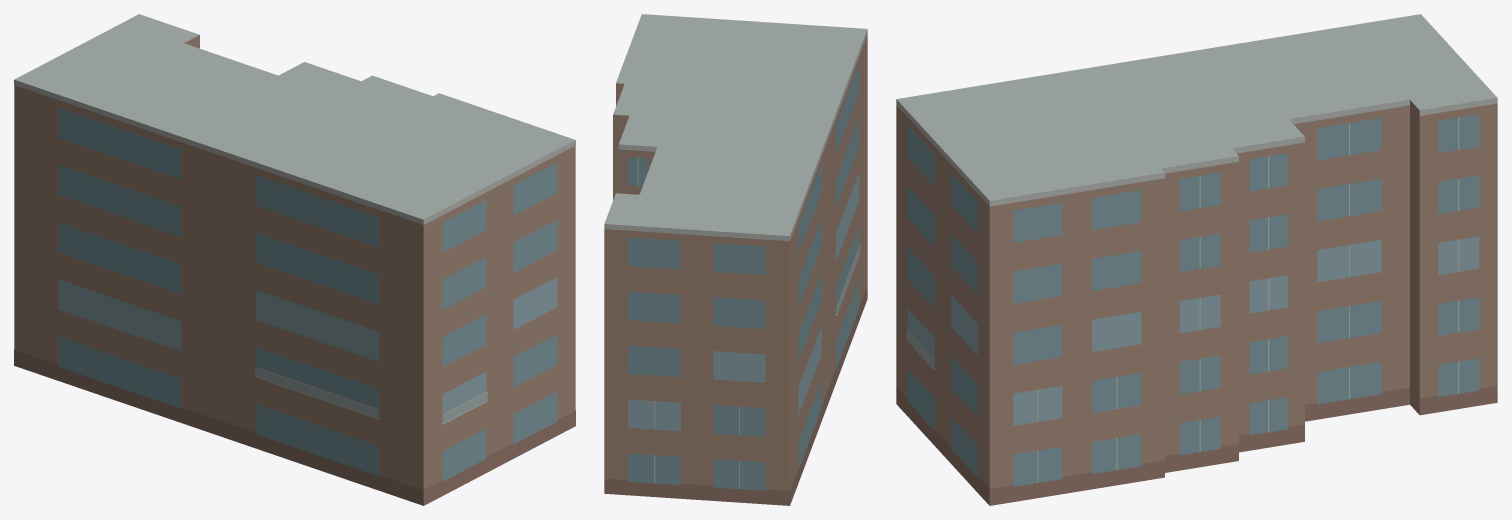
The model's file is survey-upis-32699795.glb.
The picture shows the model from 3 angles, left to right: view 1: azimuth 30°, elevation 25°; view 2: azimuth 150°, elevation 25°; view 3: azimuth 270°, elevation 25°; orthographic projection. The views are drawn at different scales.
Parts seen in each view (by area): view 1: survey-upis-32699795.tmp; view 2: survey-upis-32699795.tmp; view 3: survey-upis-32699795.tmp.
Part boxes in pixels (bbox=[...]): survey-upis-32699795.tmp: bbox=[14, 14, 575, 505]; survey-upis-32699795.tmp: bbox=[604, 14, 867, 505]; survey-upis-32699795.tmp: bbox=[896, 14, 1497, 505].
Bounding box in the file's own units: 17.1 × 13 × 23.23.
